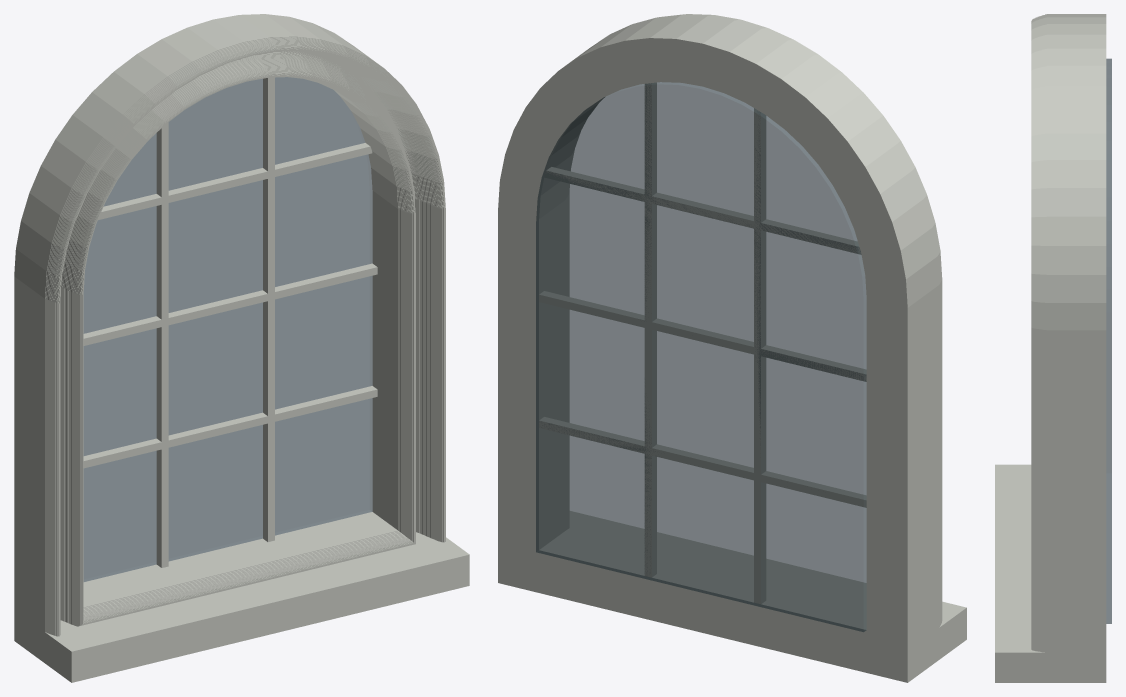
The model's file is barroco_arch.glb.
3 renders of one model, left to right at view 1: azimuth 30°, elevation 25°; view 2: azimuth 150°, elevation 25°; view 3: azimuth 270°, elevation 25°, orthographic. The views are drawn at different scales.
Visible parts, largest first — view 1: window_glass#0001, window_sill#0001, window_mullion#0001, window_reveal#0001, window_profile#0096, window_profile#0001, window_profile#0016, window_profile#0021, window_profile#0013, window_profile#0085, window_profile#0020, window_profile#0017 (+71 smaller); view 2: window_glass#0001, window_reveal#0001, window_mullion#0001, window_profile#0096, window_profile#0001, window_sill#0001, window_profile#0093, window_profile#0095, window_profile#0094, window_profile#0092, window_profile#0090, window_profile#0089 (+1 smaller); view 3: window_profile#0096, window_reveal#0001, window_sill#0001, window_glass#0001, window_profile#0093, window_profile#0095, window_profile#0094, window_profile#0091, window_profile#0092, window_profile#0090, window_profile#0089, window_profile#0088 (+6 smaller).
Part boxes in pixels (x1,y1,x2,y2): window_glass#0001: [83, 77, 372, 581]; window_sill#0001: [22, 532, 469, 682]; window_mullion#0001: [83, 77, 377, 567]; window_reveal#0001: [14, 14, 385, 646]; window_profile#0096: [25, 22, 416, 658]; window_profile#0001: [83, 83, 398, 607]; window_profile#0016: [82, 75, 414, 623]; window_profile#0021: [79, 72, 415, 625]; window_profile#0013: [83, 76, 412, 621]; window_profile#0085: [56, 46, 445, 636]; window_profile#0020: [80, 73, 415, 625]; window_profile#0017: [82, 75, 414, 624]; window_glass#0001: [536, 82, 866, 631]; window_reveal#0001: [498, 28, 921, 682]; window_mullion#0001: [539, 83, 866, 603]; window_profile#0096: [572, 14, 939, 666]; window_profile#0001: [551, 97, 866, 617]; window_sill#0001: [570, 511, 966, 675]; window_profile#0093: [685, 14, 940, 625]; window_profile#0095: [683, 14, 939, 626]; window_profile#0094: [683, 14, 940, 625]; window_profile#0092: [690, 14, 940, 624]; window_profile#0090: [687, 14, 941, 623]; window_profile#0089: [690, 14, 941, 622]; window_profile#0096: [1046, 14, 1083, 682]; window_reveal#0001: [1080, 14, 1106, 682]; window_sill#0001: [995, 464, 1089, 682]; window_glass#0001: [1106, 58, 1111, 623]; window_profile#0093: [1041, 15, 1043, 652]; window_profile#0095: [1045, 14, 1046, 652]; window_profile#0094: [1043, 15, 1044, 652]; window_profile#0091: [1039, 16, 1040, 651]; window_profile#0092: [1040, 16, 1041, 651]; window_profile#0090: [1037, 16, 1038, 651]; window_profile#0089: [1036, 17, 1037, 651]; window_profile#0088: [1035, 17, 1036, 651].
Bounding box in the file's own units: 1.6 × 2.2 × 0.42.
